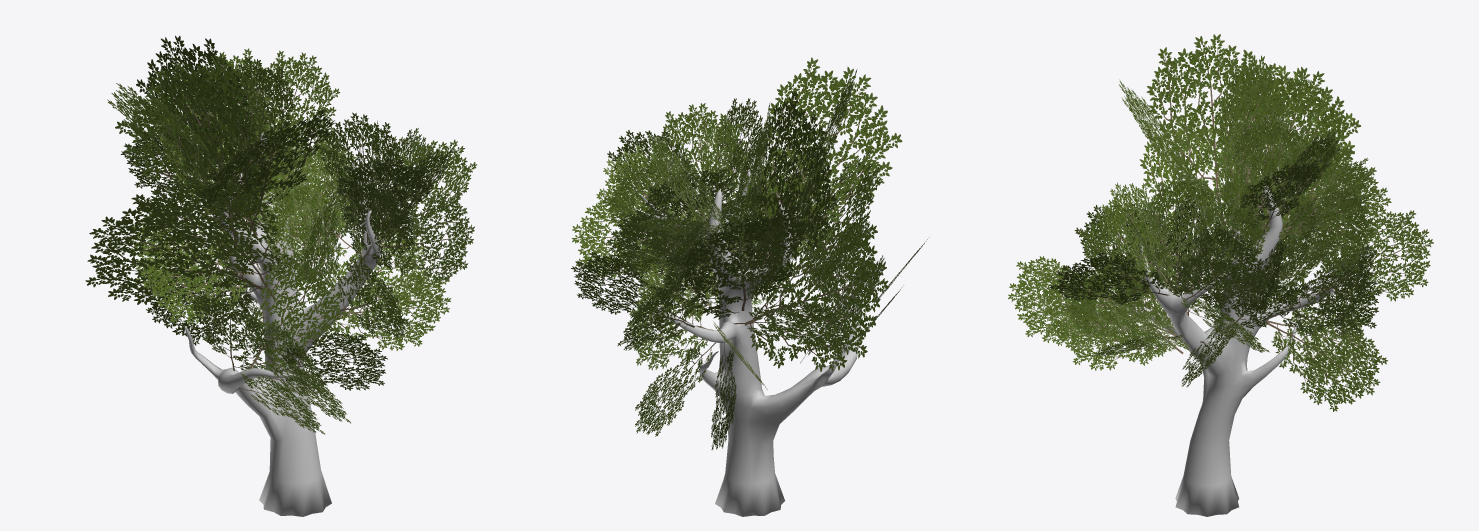
File: tree.FBX
The picture shows the model from 3 angles, left to right: view 1: azimuth 30°, elevation 25°; view 2: azimuth 150°, elevation 25°; view 3: azimuth 270°, elevation 25°; orthographic projection. The views are drawn at different scales.
Parts seen in each view (by area): view 1: branches, tree; view 2: branches, tree; view 3: branches, tree.
Boxes of the visible parts, x1,y1,x2,y2 form: branches: (85, 35, 477, 434); tree: (184, 132, 380, 516); branches: (571, 57, 929, 450); tree: (633, 170, 862, 516); branches: (1008, 34, 1433, 411); tree: (1107, 184, 1334, 516).
Bounding box in the file's own units: 21.51 × 24.41 × 22.83.
